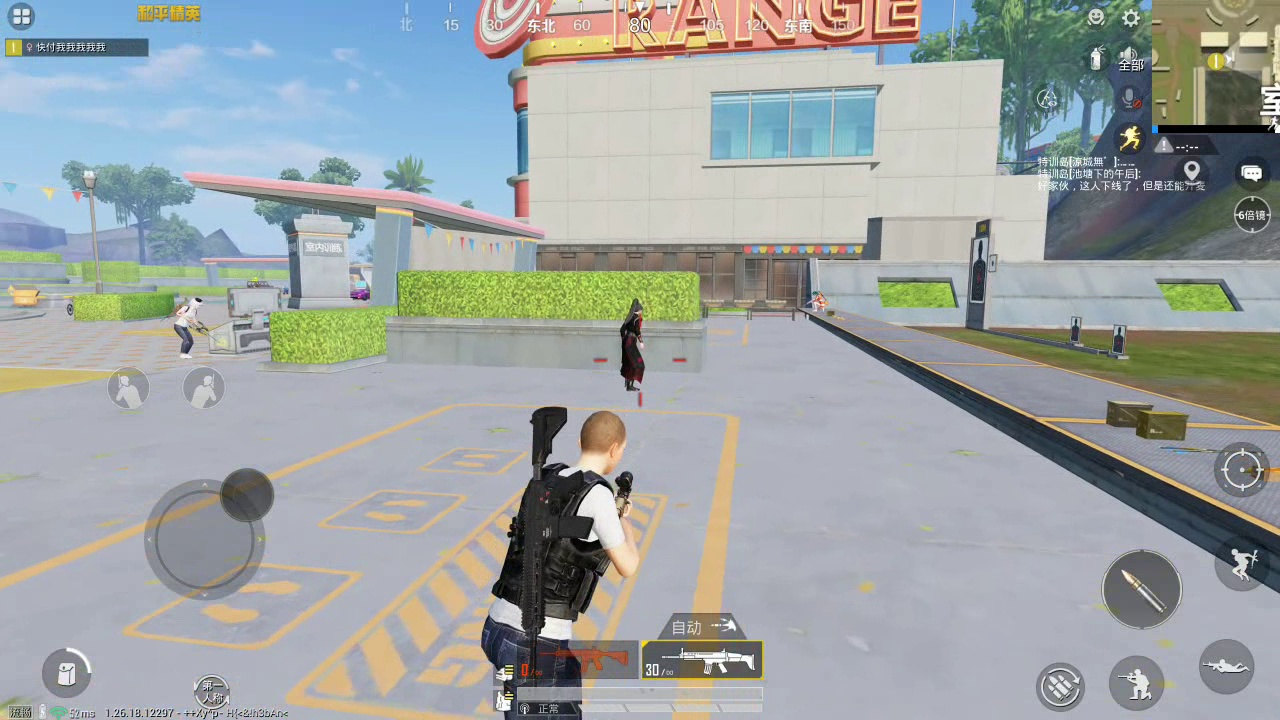enemy: (618, 301, 647, 393), (172, 293, 203, 361), (804, 289, 828, 311)
